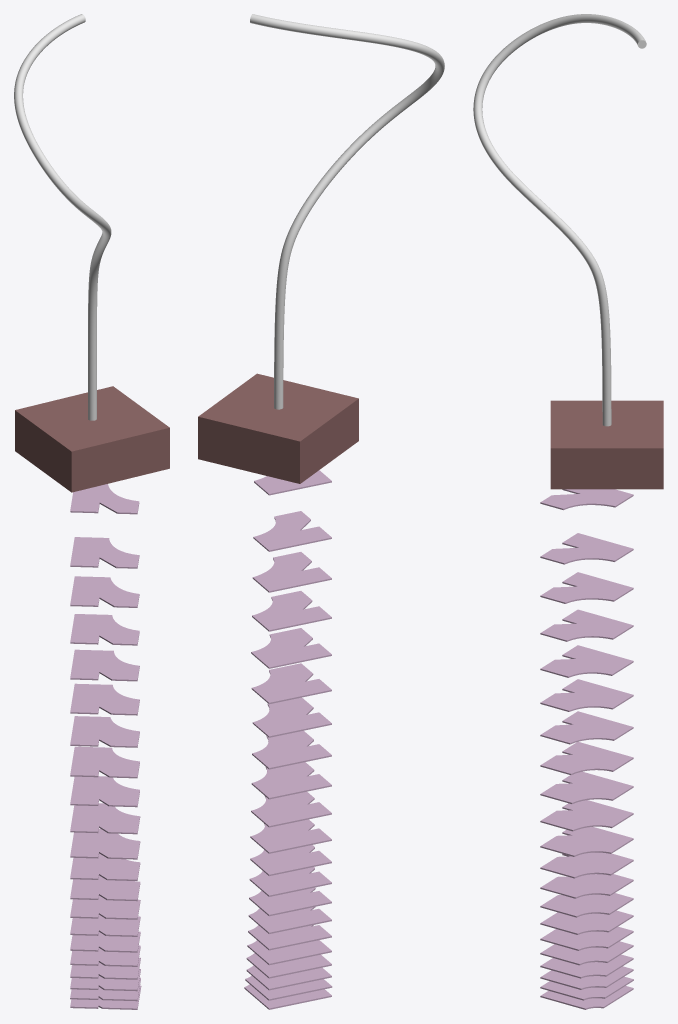
File: asset.glb
3 views of the same model, side by side, from view 1: azimuth 30°, elevation 25°; view 2: azimuth 150°, elevation 25°; view 3: azimuth 270°, elevation 25° (orthographic). The views are drawn at different scales.
Parts seen in each view (by area): view 1: NurbsPath.002, Cube; view 2: NurbsPath.002, Cube; view 3: NurbsPath.002, Cube.
Boxes of the visible parts, left/top/right/bottom form: NurbsPath.002: left=14, top=14, right=141, bottom=1009; Cube: left=15, top=386, right=169, bottom=492; NurbsPath.002: left=244, top=14, right=444, bottom=1009; Cube: left=198, top=373, right=358, bottom=483; NurbsPath.002: left=473, top=14, right=646, bottom=1009; Cube: left=550, top=400, right=663, bottom=489.
Bounding box in the file's own units: 0.1607 × 0.9359 × 0.1688.
